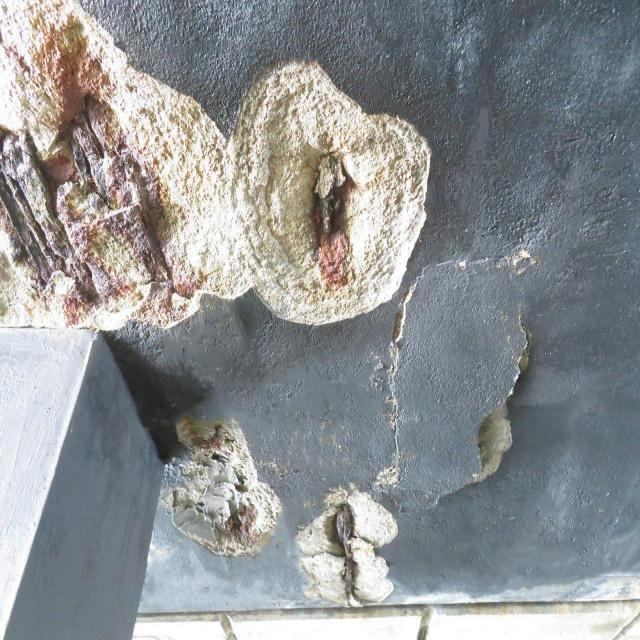Rebar: (0, 0, 427, 324), (295, 482, 399, 605)
concrete spalling: (164, 417, 280, 556)
